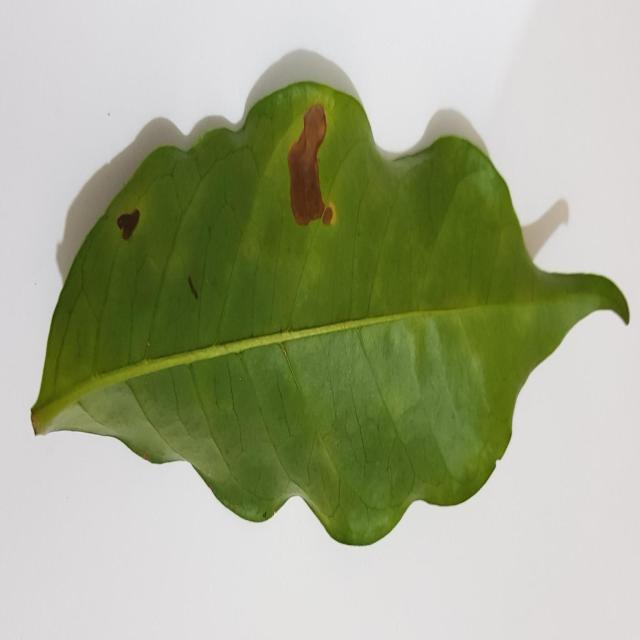miner: (288, 103, 336, 225), (117, 209, 140, 240), (187, 276, 200, 299)
